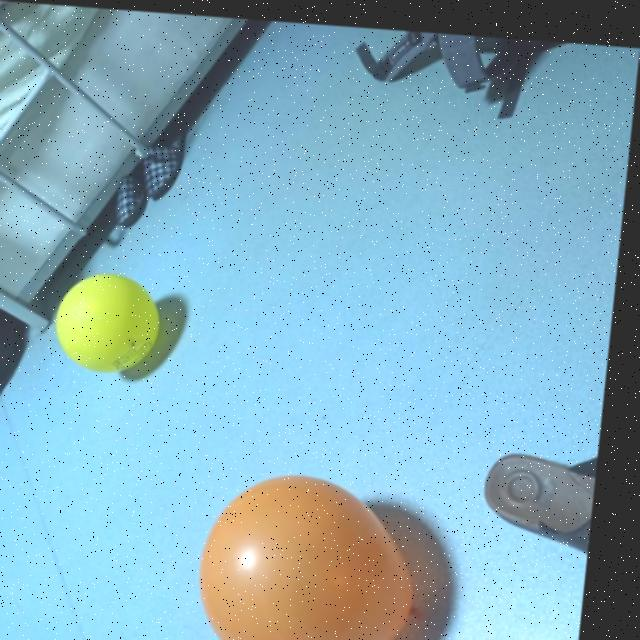balloon: (205, 462, 448, 640), (56, 262, 174, 390)
